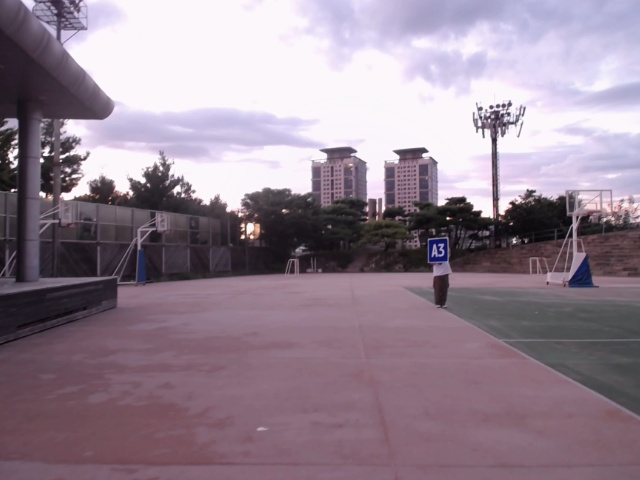delivery_a3: (428, 238, 449, 263)
